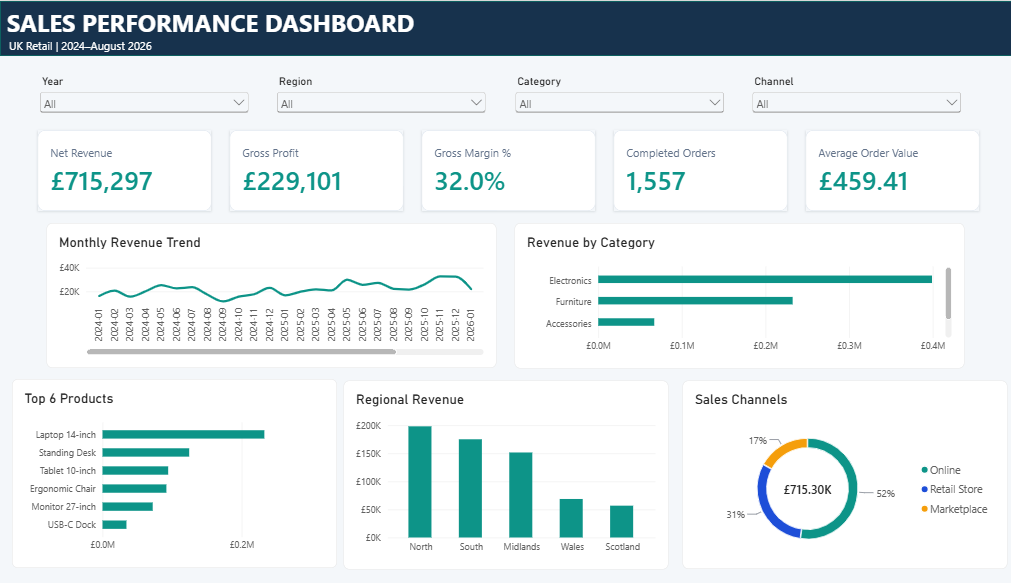

The page's visual inventory and layout, read from the dashboard file:
{"tool":"powerbi","page":{"name":"Executive Overview.","canvas":[1350,780],"ordinal":0},"visuals":[{"type":"shape","box":[0,0,1350,73.3],"z":0},{"type":"textbox","box":[0,6.4,586.9,132],"z":1000},{"type":"slicer","fields":{"Values":["DimDate.Year"]},"box":[48.7,97.8,288,60],"z":2000},{"type":"slicer","fields":{"Values":["DimCustomers.Region"]},"box":[364.7,97.8,288.6,60],"z":3000},{"type":"slicer","fields":{"Values":["DimProducts.Category"]},"box":[681.2,97.8,288.6,60],"z":4000},{"type":"slicer","fields":{"Values":["FactSales.SalesChannel"]},"box":[997.8,97.8,288.6,60],"z":5000},{"type":"cardVisual","fields":{"Data":["FactSales.Net Revenue"]},"box":[50.6,171.1,232,108],"z":6000},{"type":"cardVisual","fields":{"Data":["FactSales.Gross Profit"]},"box":[306.4,171.1,232,108],"z":7000},{"type":"cardVisual","fields":{"Data":["FactSales.Gross Margin %"]},"box":[562.2,171.1,232,108],"z":8000},{"type":"cardVisual","fields":{"Data":["FactSales.Completed Orders"]},"box":[818.1,171.1,232,108],"z":9000},{"type":"cardVisual","fields":{"Data":["FactSales.Average Order Value"]},"box":[1073.9,171.1,232,108],"z":10000},{"type":"lineChart","title":"Monthly Revenue Trend","fields":{"Category":["DimDate.YearMonth"],"Y":["FactSales.Net Revenue"]},"box":[62.8,295,600,193.3],"z":11000},{"type":"clusteredBarChart","title":" Revenue by Category","fields":{"Category":["DimProducts.Category"],"Y":["FactSales.Net Revenue"]},"box":[686.7,295,600,194],"z":12000},{"type":"clusteredBarChart","title":"Top 6 Products","fields":{"Category":["DimProducts.ProductName"],"Y":["FactSales.Net Revenue"]},"box":[16.1,504.4,433.3,251.7],"z":13000},{"type":"clusteredColumnChart","title":"Regional Revenue","fields":{"Category":["DimCustomers.Region"],"Y":["FactSales.Net Revenue"]},"box":[457.8,506.1,433.3,251.7],"z":14000},{"type":"donutChart","title":"Sales Channels  ","fields":{"Category":["FactSales.SalesChannel"],"Y":["FactSales.Net Revenue"]},"box":[910,506.7,433,251],"z":15000}]}

Visuals, with their boxes in screenshot pixels (x1, y1, x2, y2), scaled from the page's 1350x780 canvas onto the 1011x583 screenshot:
shape: region(0, 0, 1010, 55)
textbox: region(0, 5, 440, 103)
slicer - DimDate.Year: region(36, 73, 252, 118)
slicer - DimCustomers.Region: region(273, 73, 489, 118)
slicer - DimProducts.Category: region(510, 73, 726, 118)
slicer - FactSales.SalesChannel: region(747, 73, 963, 118)
cardVisual - FactSales.Net Revenue: region(38, 128, 212, 209)
cardVisual - FactSales.Gross Profit: region(229, 128, 403, 209)
cardVisual - FactSales.Gross Margin %: region(421, 128, 595, 209)
cardVisual - FactSales.Completed Orders: region(613, 128, 786, 209)
cardVisual - FactSales.Average Order Value: region(804, 128, 978, 209)
"Monthly Revenue Trend" lineChart: region(47, 220, 496, 365)
" Revenue by Category" clusteredBarChart: region(514, 220, 964, 365)
"Top 6 Products" clusteredBarChart: region(12, 377, 337, 565)
"Regional Revenue" clusteredColumnChart: region(343, 378, 667, 566)
"Sales Channels  " donutChart: region(681, 379, 1006, 566)
